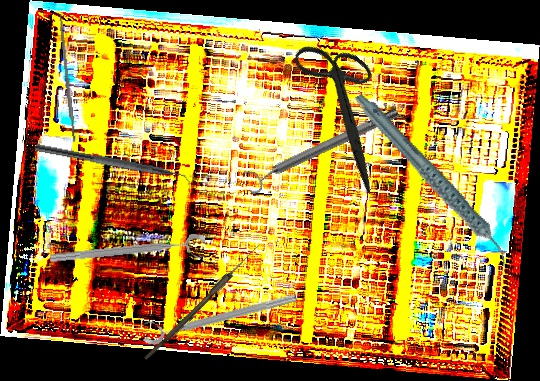Chopper: (31, 143, 200, 191)
Fixation Ring: (241, 100, 404, 197), (138, 280, 299, 348), (49, 232, 207, 276)
Handpiece: (352, 70, 511, 291)
Iris Scissors: (257, 25, 432, 194)
Scalpel Handle: (57, 13, 77, 144)
Surgical Spoon: (143, 240, 263, 364)
